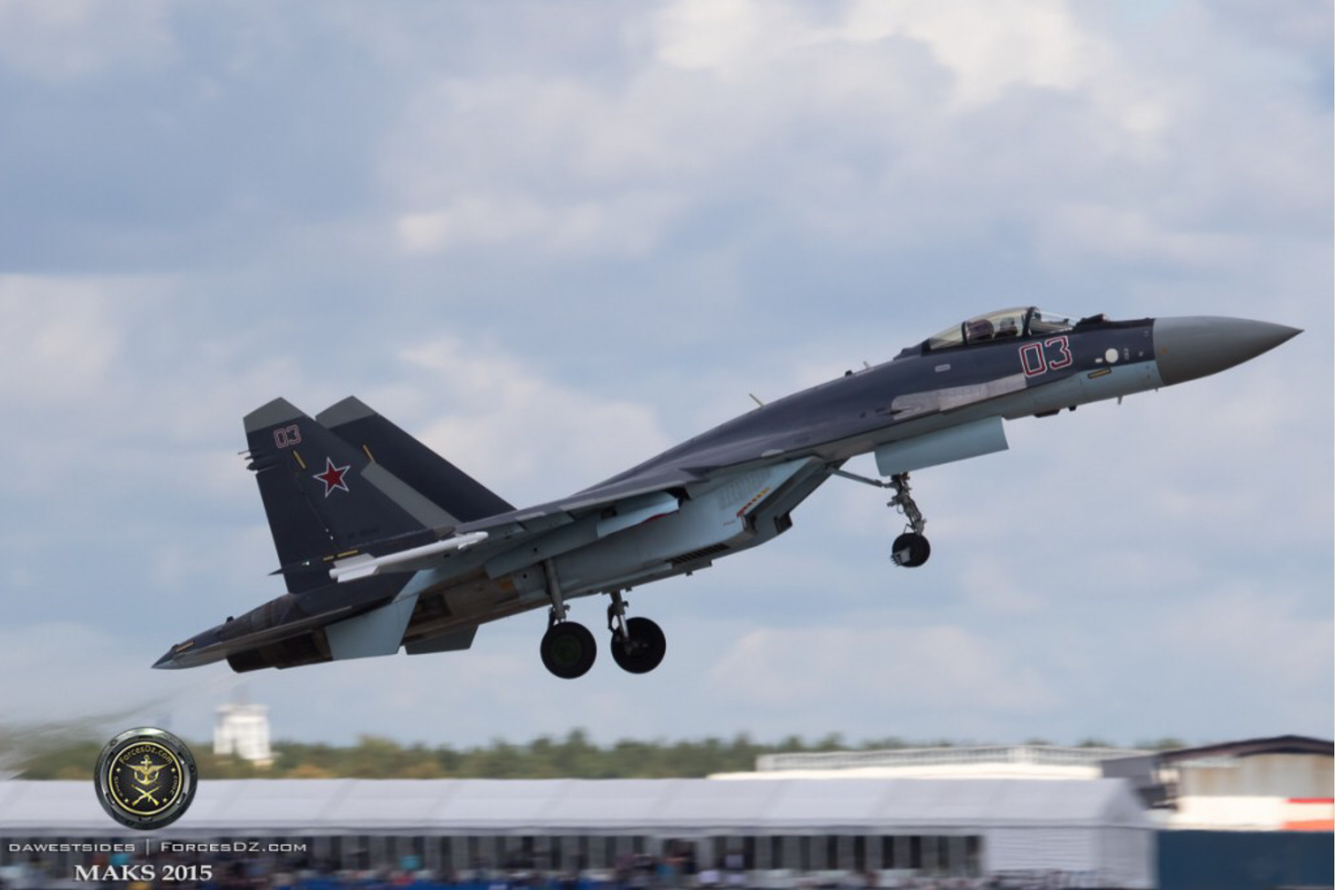Su35: (148, 297, 1307, 683)
